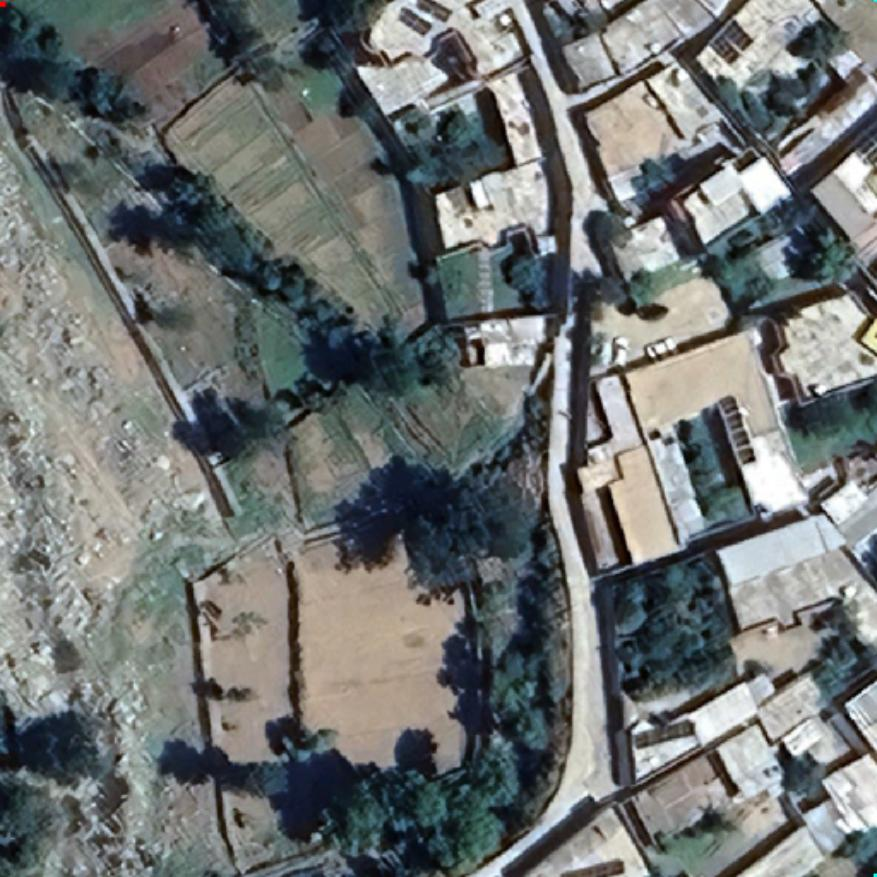Solarpanel: (718, 394, 758, 466), (708, 18, 756, 64), (635, 719, 697, 749), (396, 6, 434, 38), (562, 859, 626, 877), (414, 0, 452, 22)
